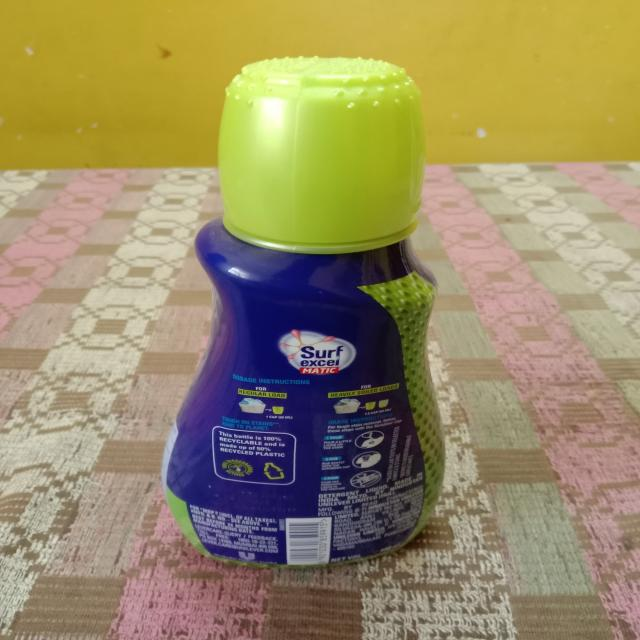detergent: (166, 57, 483, 563)
